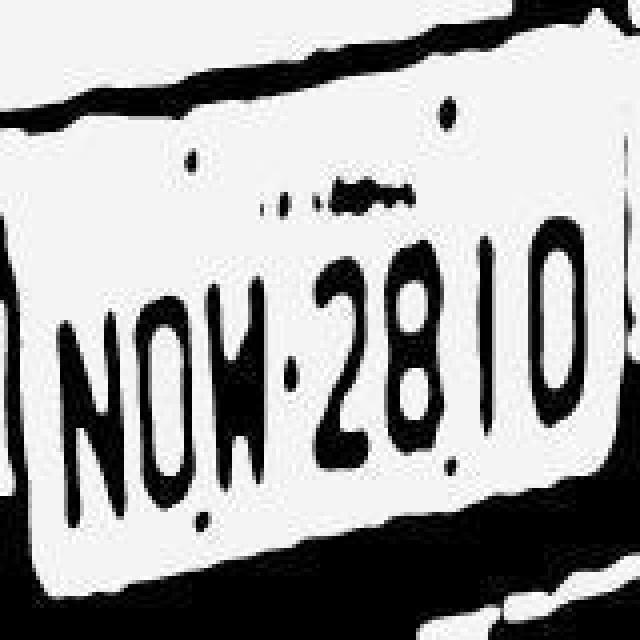1: (466, 208, 510, 448)
2: (304, 238, 376, 506)
8: (382, 210, 450, 462)
N: (48, 284, 128, 548)
O: (132, 256, 204, 512), (524, 196, 596, 444)
W: (206, 238, 274, 498)
